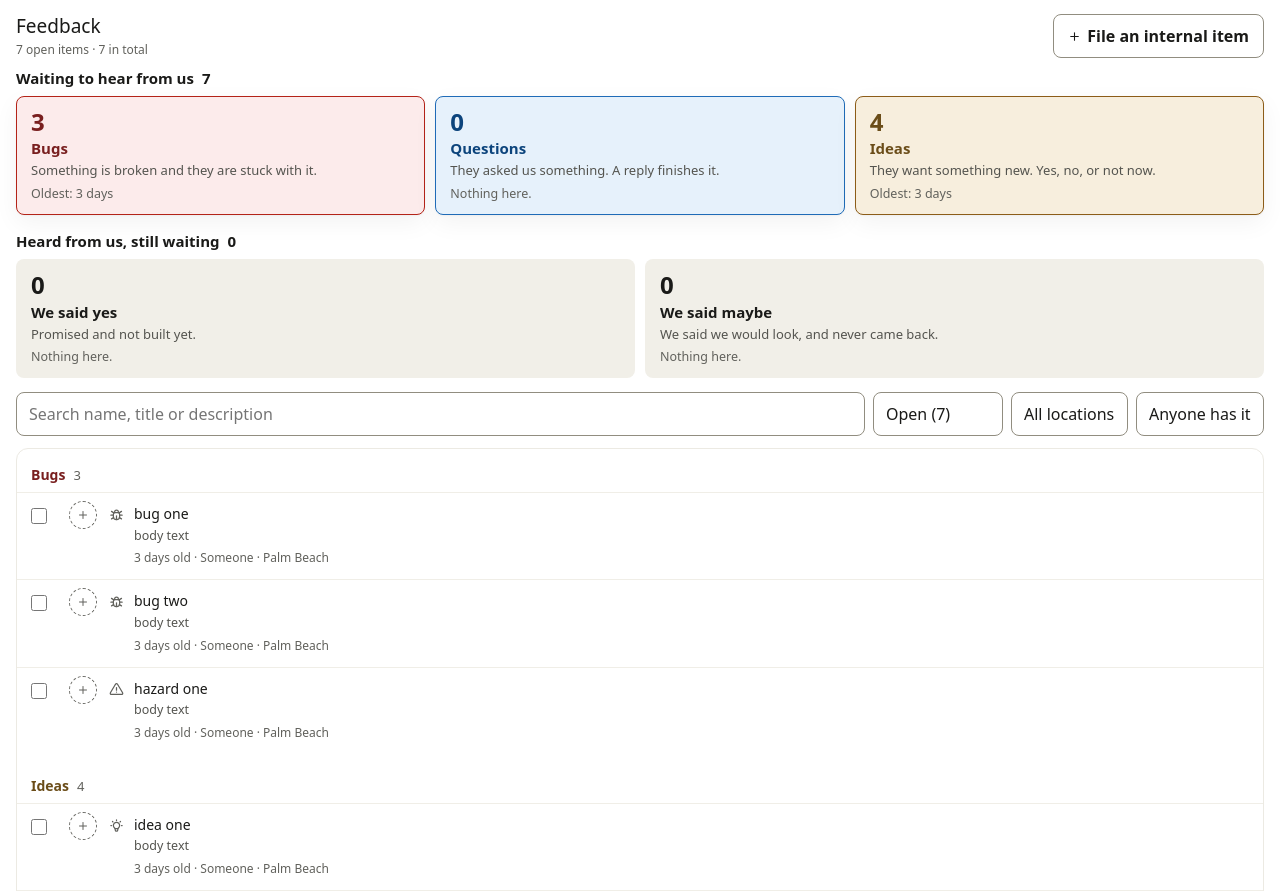
Test: the internal composer › explains what the two new words mean — the hint follows the selection
What coordinates should you click on to do the following:
click the button "File an internal item"
I would click on:
 (1159, 36)
Its box is [1053,14,1264,58].
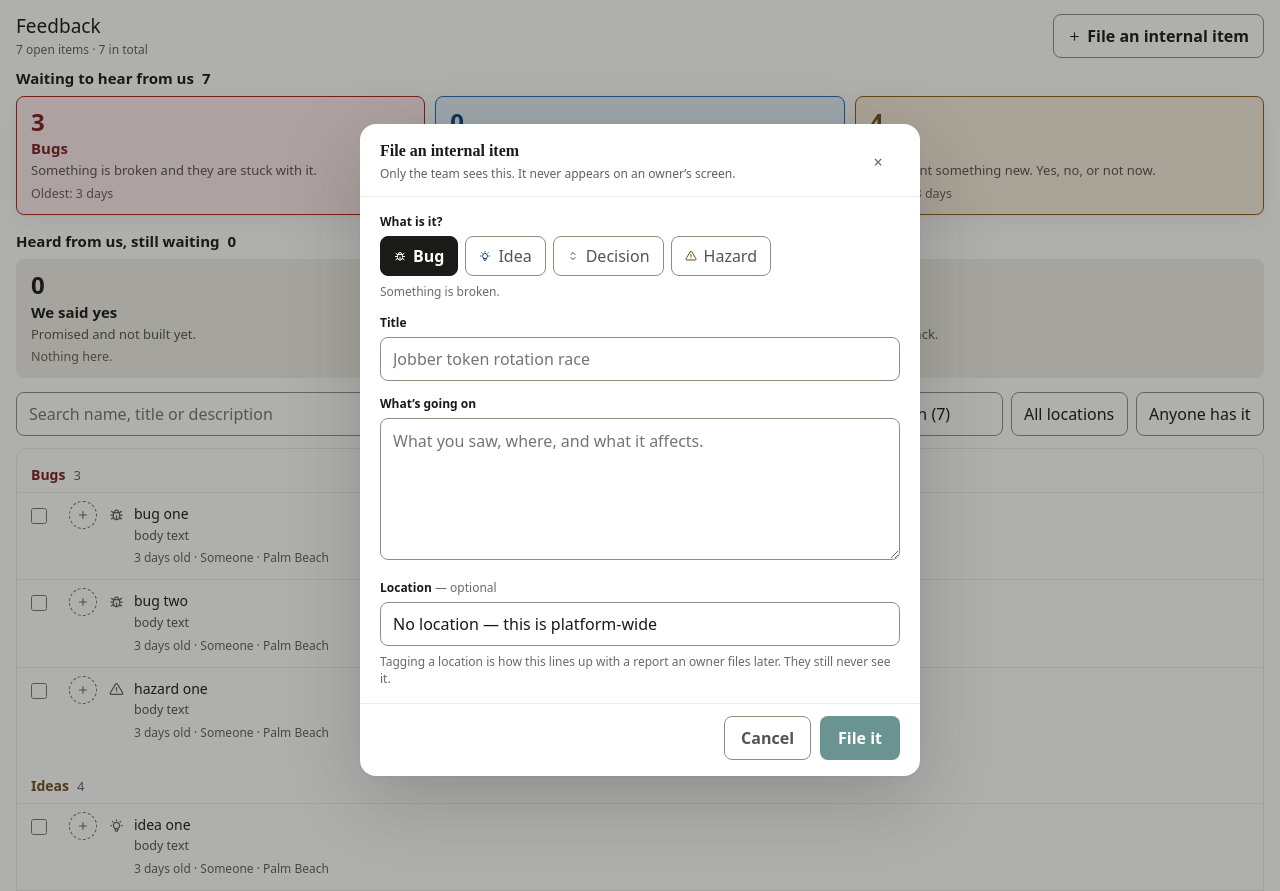
What coordinates should you click on to do the following:
click the button "Decision"
I would click on:
 (608, 256)
Its box is [553,236,664,276].
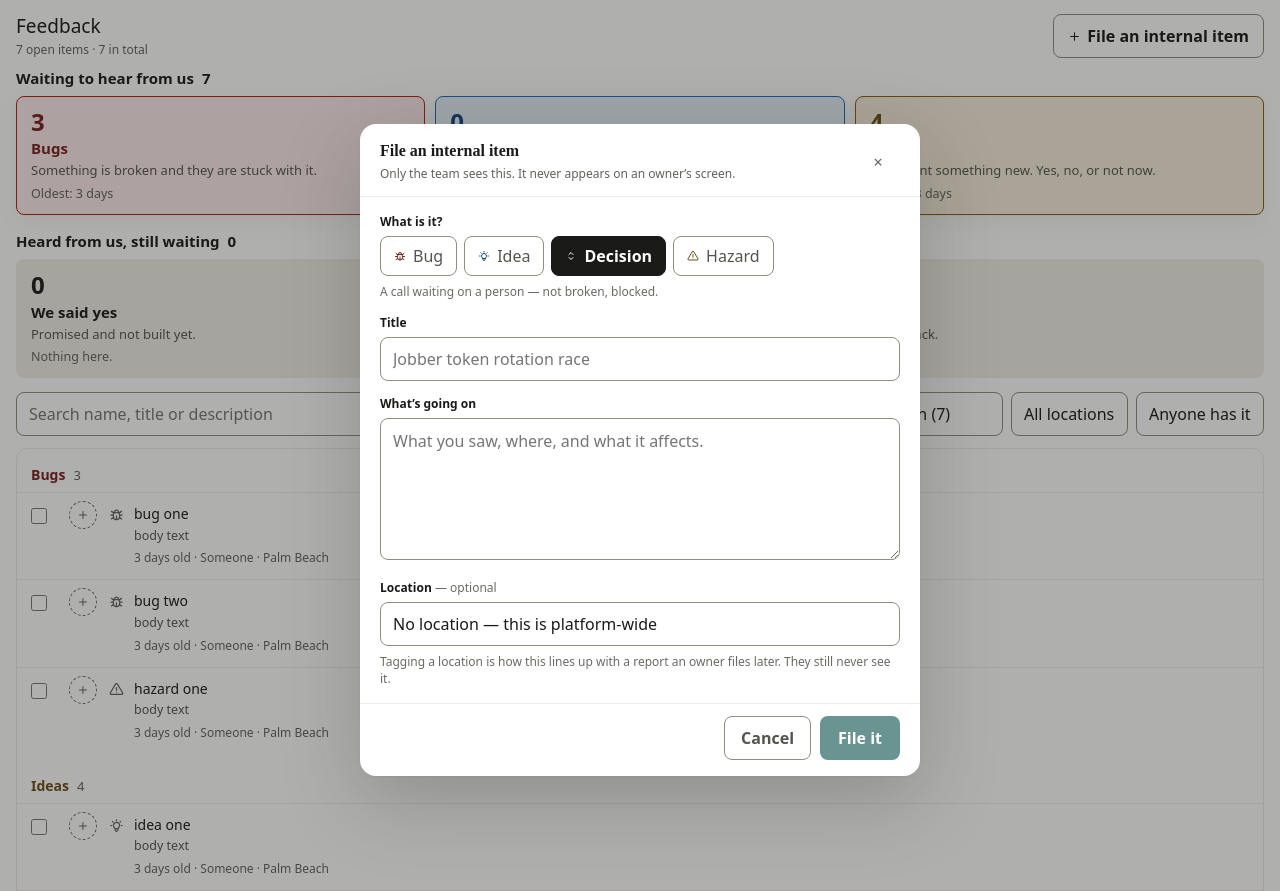
Expected: the text "A call waiting on a person" is shown, [380,283,658,300]
What coordinates should you click on to do the following:
click the button "Hazard"
I would click on:
 (723, 256)
Its box is [673,236,774,276].
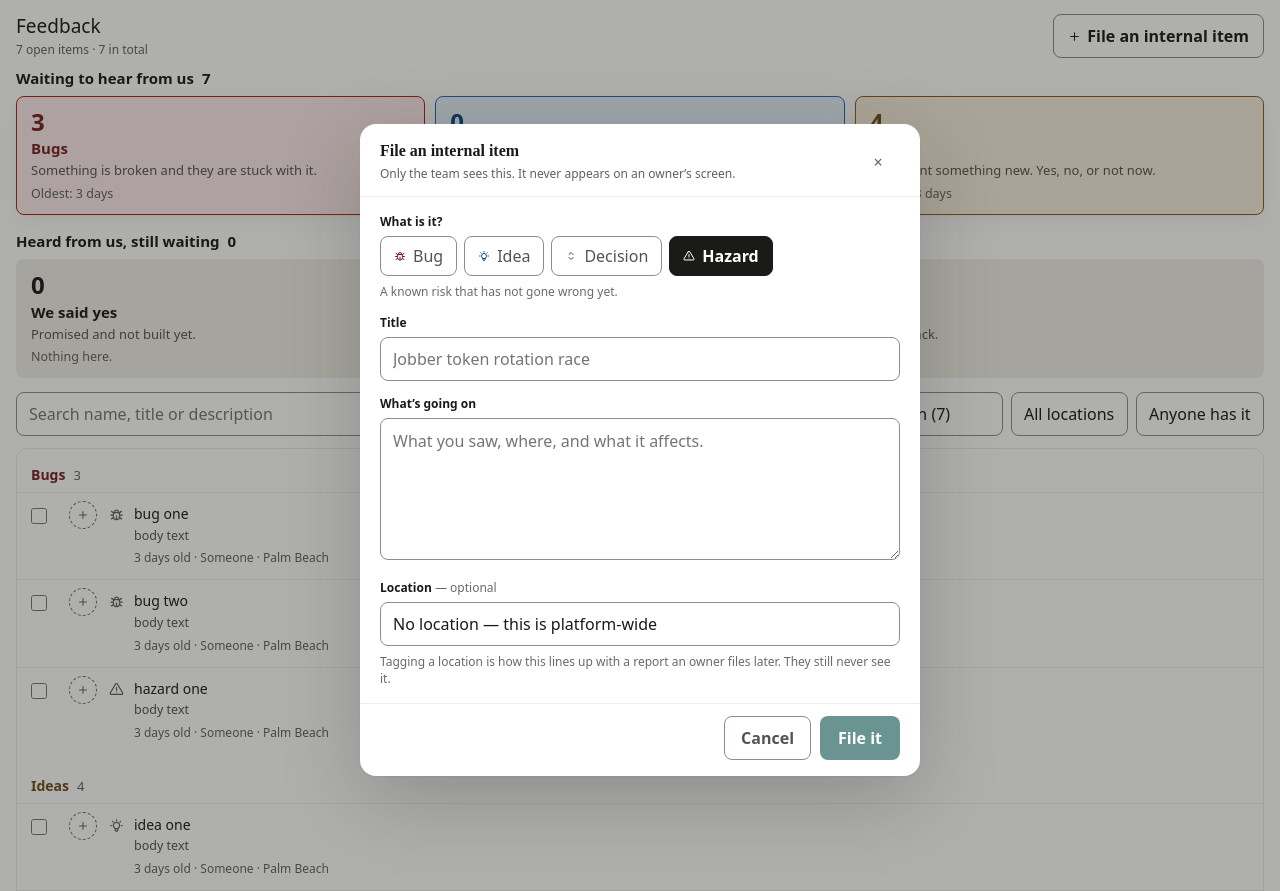
Expected: the text "A known risk that has not gone wrong yet" is shown, [380,283,618,300]
